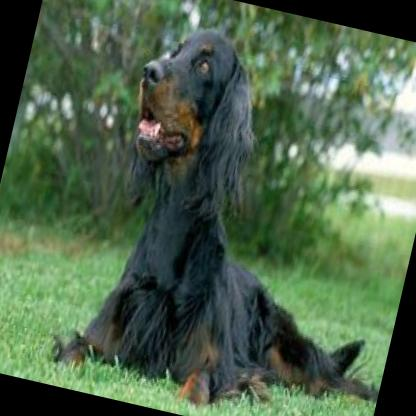Gordon_setter: (42, 5, 416, 416)
